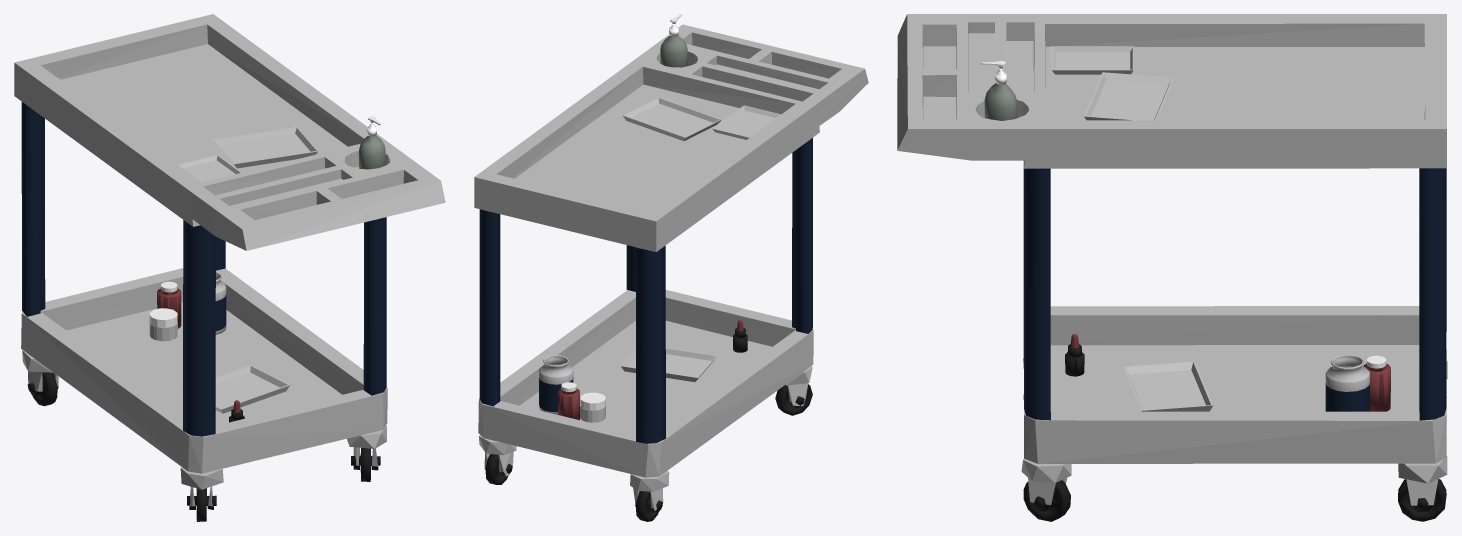
The model's file is service_cart.dae.
The picture shows the model from 3 angles, left to right: view 1: azimuth 30°, elevation 25°; view 2: azimuth 150°, elevation 25°; view 3: azimuth 270°, elevation 25°; orthographic projection. The views are drawn at different scales.
Parts seen in each view (by area): view 1: 17351_Service_cart_v1, 17351_Service_cart_v1.004, Layer0_001.003, Layer0_001.002, 17351_Service_cart_v1.002, Layer0_001.001, Circle.012, Circle.007, Cylinder, bottol.002; view 2: 17351_Service_cart_v1, 17351_Service_cart_v1.004, Layer0_001.003, 17351_Service_cart_v1.002, Layer0_001.002, Cylinder, Layer0_001.001, Circle.007, Circle.012, bottol.002; view 3: 17351_Service_cart_v1, 17351_Service_cart_v1.004, Layer0_001.002, Layer0_001.003, Cylinder, Layer0_001.001, 17351_Service_cart_v1.002, Circle.007, bottol.002.
Part boxes in pixels (left/top/right/bottom): 17351_Service_cart_v1: left=14, top=14, right=445, bottom=506; 17351_Service_cart_v1.004: left=21, top=102, right=386, bottom=436; Layer0_001.003: left=213, top=127, right=318, bottom=168; Layer0_001.002: left=182, top=365, right=289, bottom=413; 17351_Service_cart_v1.002: left=27, top=372, right=380, bottom=521; Layer0_001.001: left=177, top=155, right=241, bottom=182; Circle.012: left=149, top=308, right=177, bottom=341; Circle.007: left=359, top=135, right=385, bottom=169; Cylinder: left=215, top=271, right=226, bottom=334; bottol.002: left=157, top=288, right=181, bottom=328; 17351_Service_cart_v1: left=474, top=24, right=868, bottom=510; 17351_Service_cart_v1.004: left=479, top=138, right=812, bottom=443; Layer0_001.003: left=622, top=97, right=721, bottom=141; 17351_Service_cart_v1.002: left=485, top=384, right=812, bottom=521; Layer0_001.002: left=621, top=347, right=716, bottom=382; Cylinder: left=539, top=355, right=573, bottom=414; Layer0_001.001: left=712, top=105, right=780, bottom=139; Circle.007: left=660, top=35, right=687, bottom=67; Circle.012: left=580, top=392, right=605, bottom=422; bottol.002: left=558, top=388, right=579, bottom=420; 17351_Service_cart_v1: left=897, top=14, right=1447, bottom=505; 17351_Service_cart_v1.004: left=1023, top=168, right=1446, bottom=420; Layer0_001.002: left=1123, top=361, right=1213, bottom=411; Layer0_001.003: left=1084, top=72, right=1173, bottom=120; Cylinder: left=1325, top=354, right=1369, bottom=411; Layer0_001.001: left=1051, top=46, right=1133, bottom=74; 17351_Service_cart_v1.002: left=1023, top=394, right=1446, bottom=521; Circle.007: left=984, top=83, right=1016, bottom=120; bottol.002: left=1363, top=363, right=1390, bottom=411.
Bounding box in the file's own units: 0.507 × 1.01 × 0.9131.
